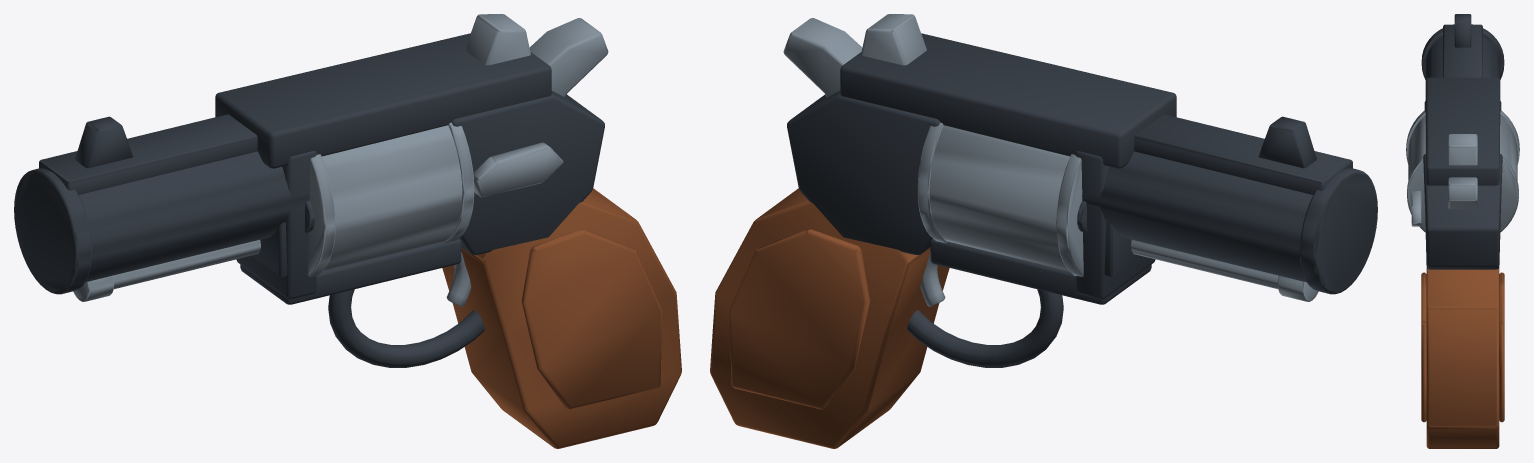
Rendered from Revolver_Final.fbx.
The picture shows the model from 3 angles, left to right: view 1: azimuth 30°, elevation 25°; view 2: azimuth 150°, elevation 25°; view 3: azimuth 270°, elevation 25°; orthographic projection. The views are drawn at different scales.
Visible parts, largest first — view 1: Frame, Grip, Barrel, Cylinder, Hammer, CylinderRelease, EjectorRod, FrontSight, Trigger; view 2: Frame, Grip, Barrel, Cylinder, Hammer, EjectorRod, FrontSight, Trigger; view 3: Grip, Frame, Barrel, Cylinder, Hammer, FrontSight, CylinderRelease.
Boxes of the visible parts, bbox=[...] form: Frame: bbox=[215, 33, 604, 367]; Grip: bbox=[442, 188, 681, 448]; Barrel: bbox=[14, 114, 309, 294]; Cylinder: bbox=[304, 122, 474, 276]; Hammer: bbox=[465, 14, 608, 97]; CylinderRelease: bbox=[473, 142, 563, 197]; EjectorRod: bbox=[73, 240, 260, 301]; FrontSight: bbox=[75, 116, 133, 168]; Trigger: bbox=[446, 252, 471, 306]; Frame: bbox=[787, 33, 1176, 367]; Grip: bbox=[710, 188, 949, 448]; Barrel: bbox=[1082, 114, 1377, 294]; Cylinder: bbox=[917, 122, 1087, 276]; Hammer: bbox=[783, 14, 926, 97]; EjectorRod: bbox=[1131, 240, 1318, 301]; FrontSight: bbox=[1258, 116, 1316, 168]; Trigger: bbox=[920, 252, 945, 306]; Grip: bbox=[1421, 268, 1504, 448]; Frame: bbox=[1423, 77, 1502, 269]; Barrel: bbox=[1421, 24, 1504, 79]; Cylinder: bbox=[1406, 110, 1519, 232]; Hammer: bbox=[1448, 134, 1477, 209]; FrontSight: bbox=[1454, 14, 1471, 47]; CylinderRelease: bbox=[1411, 191, 1421, 226].
Bounding box in the file's own units: 0.3284 × 0.2151 × 0.0818.
